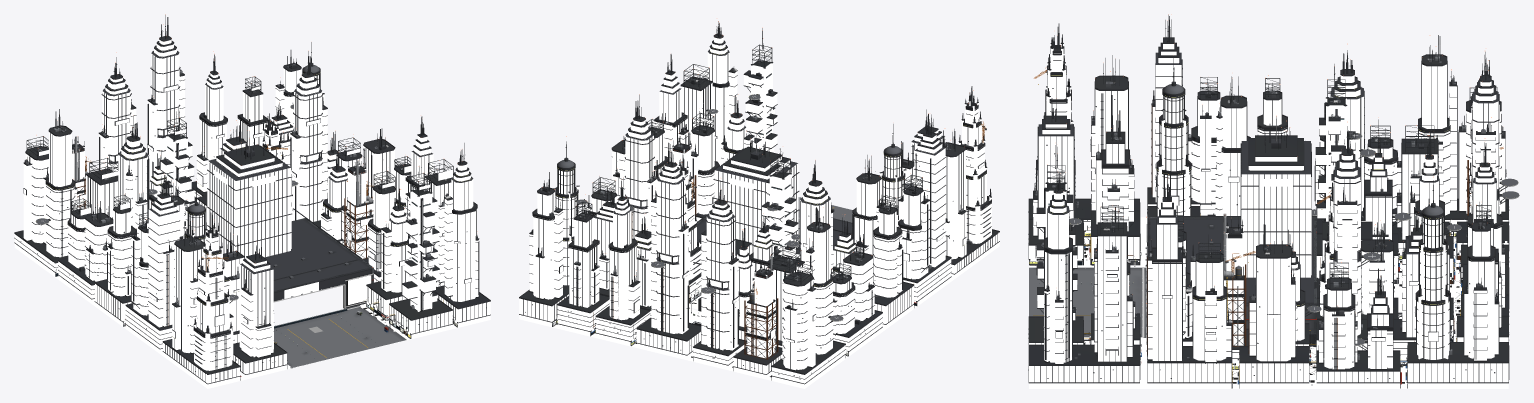
Rendered from Neonhafen.bcb250b721.glb.
3 views of the same model, side by side, from view 1: azimuth 30°, elevation 25°; view 2: azimuth 150°, elevation 25°; view 3: azimuth 270°, elevation 25° (orthographic). The views are drawn at different scales.
Visible parts, largest first — view 1: Neonhafen; view 2: Neonhafen; view 3: Neonhafen.
Part boxes in pixels (x1,y1,x2,y2): Neonhafen: (14,14,490,388); Neonhafen: (519,21,999,388); Neonhafen: (1028,14,1519,388).
Size of the model in its own units: 424 by 287 by 497.
